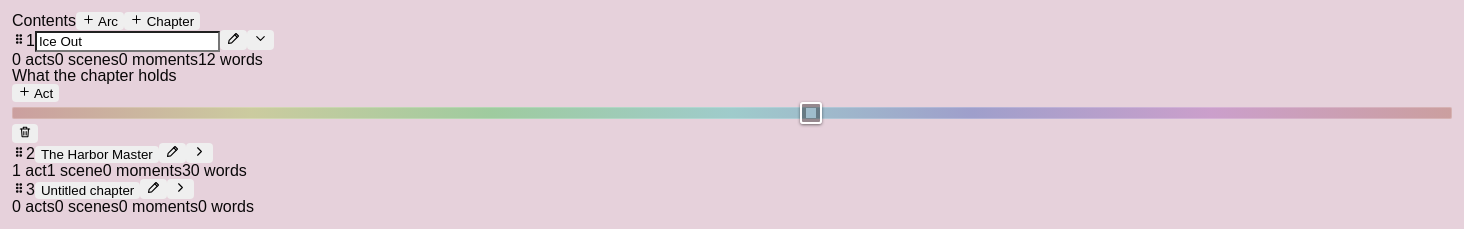
Test case: Outline contents: a chapter that is open and the others › opens a chapter as it was left: one folded earlier stays folded until its chevron is used
Click the button with aria-label "Open chapter 2".
click(97, 154)  # box 35,146 -> 159,163
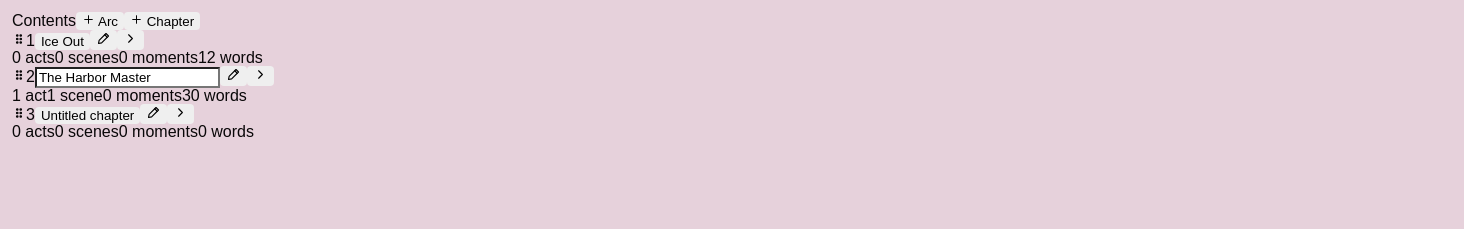
Expected: the field named "Chapter 2 title" is shown, 35,67 -> 220,88
Expected: the text with test id "contents" is gone
Expected: the element with class "wrCardFoot--tools" is gone
Click the button named "Expand chapter 2".
click(260, 76)  # box 247,66 -> 274,86
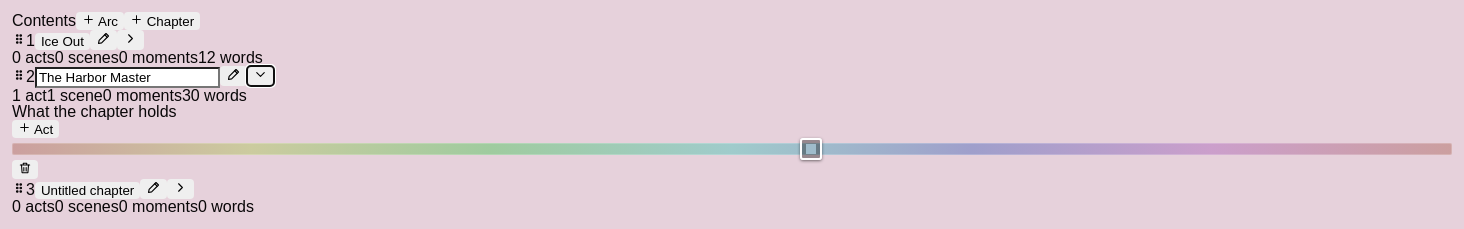
Expected: the text "What the chapter holds" is shown, 12,103 -> 176,120
Expected: the element with class "wrCardFoot--tools" is shown, 12,120 -> 1452,179
